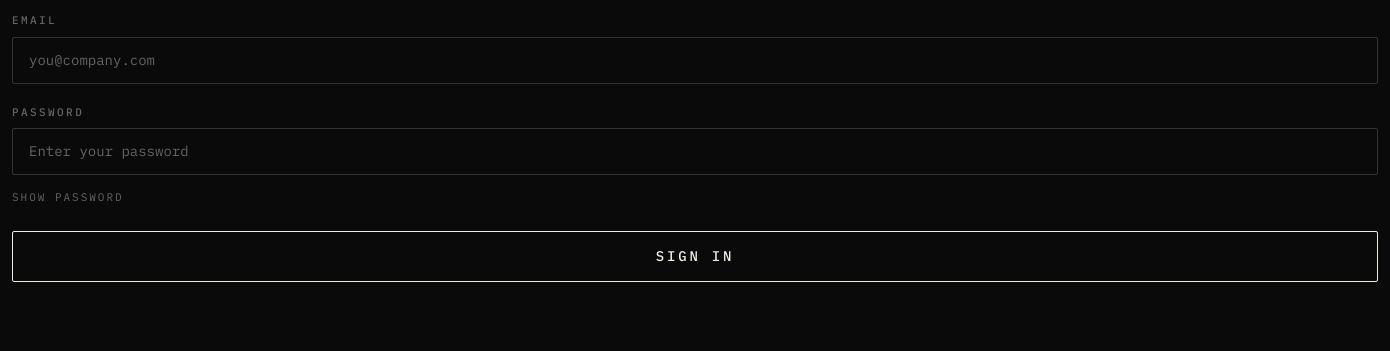
Test: ClientLoginForm › clears field error when user updates the field
Click the button "Sign In": click(695, 256) [12,231,1378,282]
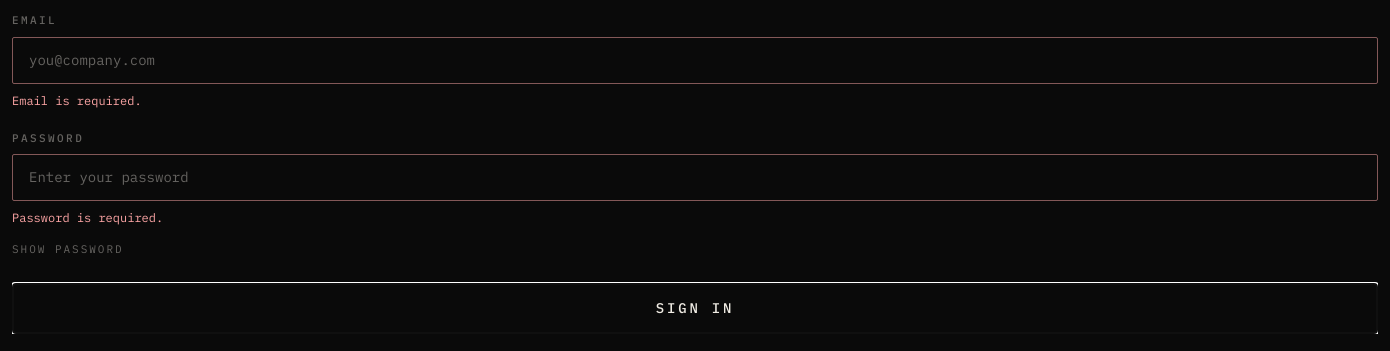
Expected: the text "Email is required." is shown, [12,92,142,108]
In the field labelled "Email": (695, 60) [12,36,1378,84], type "c"
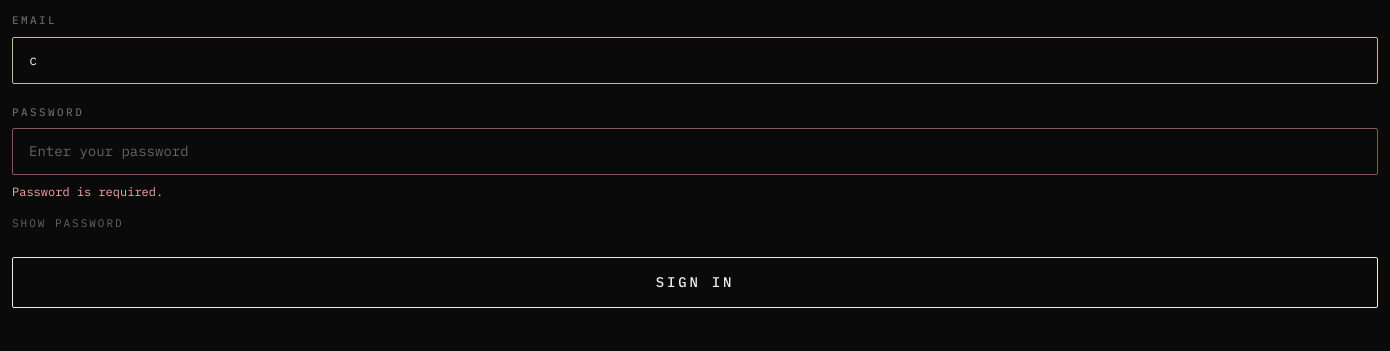
Expected: the text "Email is required." is gone
